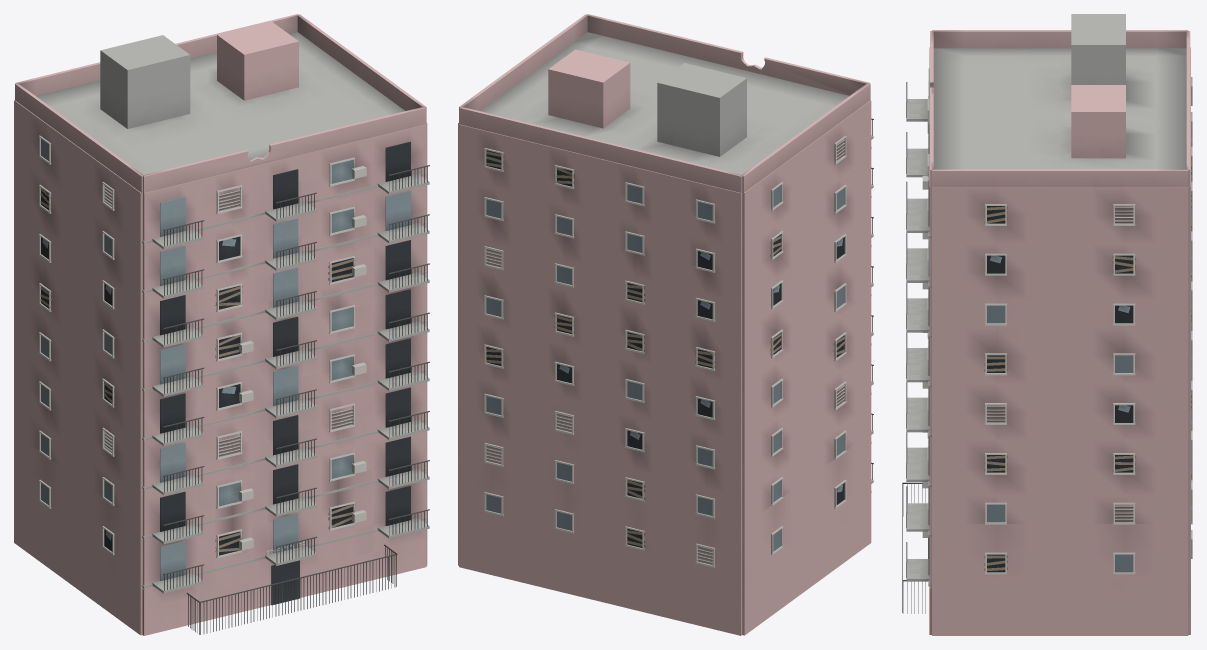
File: apto_3.glb
3 renders of one model, left to right at view 1: azimuth 30°, elevation 25°; view 2: azimuth 150°, elevation 25°; view 3: azimuth 270°, elevation 25°, orthographic.
Parts seen in each view (by area): view 1: ext, detalhe, longe; view 2: ext, longe, detalhe; view 3: ext, longe, detalhe.
Boxes of the visible parts, box(x1,y1,x2,y2) form: ext: box(14, 100, 427, 635); detalhe: box(39, 21, 429, 634); longe: box(15, 14, 426, 635); ext: box(458, 83, 871, 635); longe: box(459, 14, 871, 492); detalhe: box(484, 49, 873, 567); ext: box(929, 47, 1190, 635); longe: box(902, 30, 1190, 634); detalhe: box(902, 14, 1192, 613).
Size of what is drawn, in the model's own units: 18.48 by 30.6 by 15.87.
